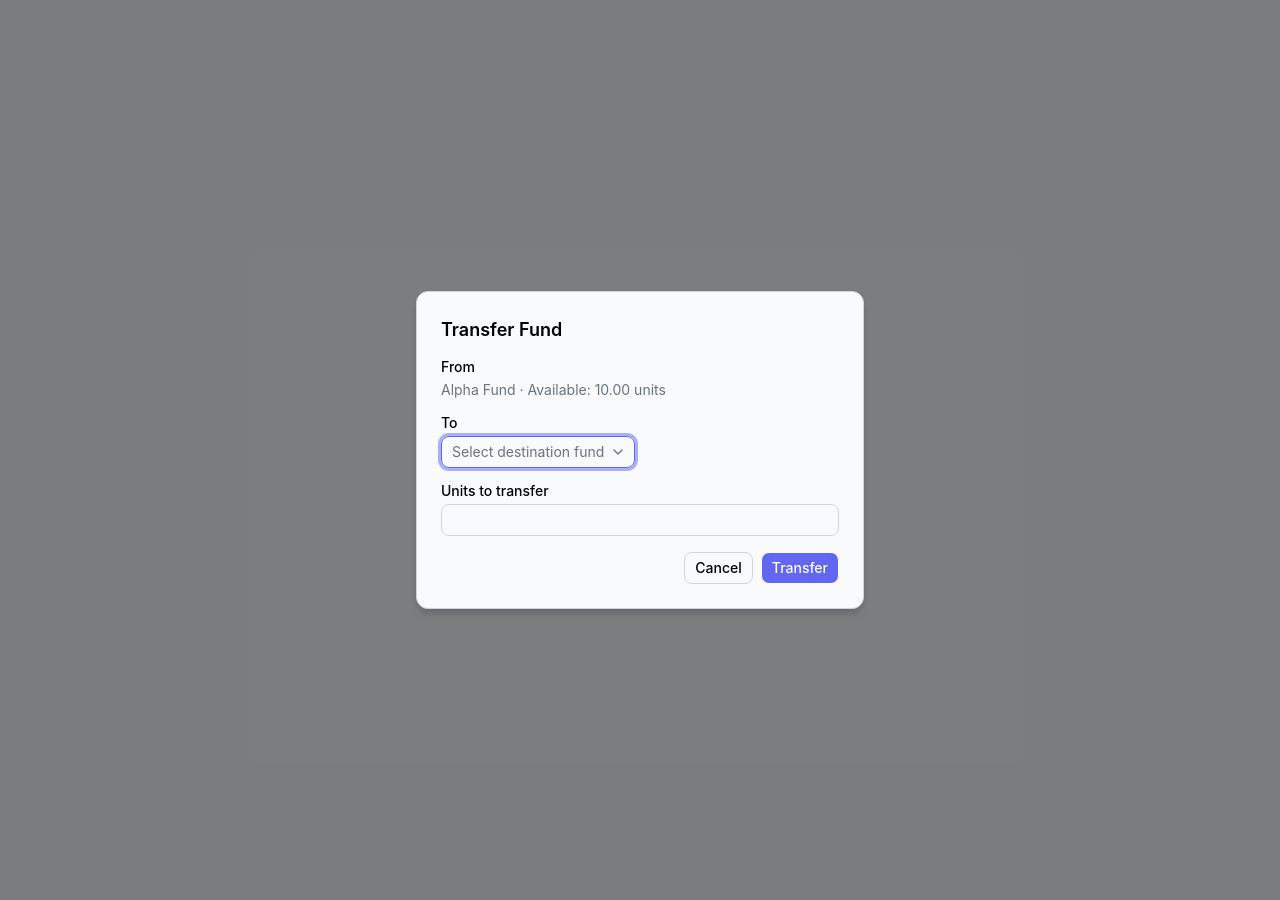
TransferFundDialog › validation › shows error when quantity is zero on submit
Step 1. Click the button "Transfer" → (800, 568), box [761,552,839,584]
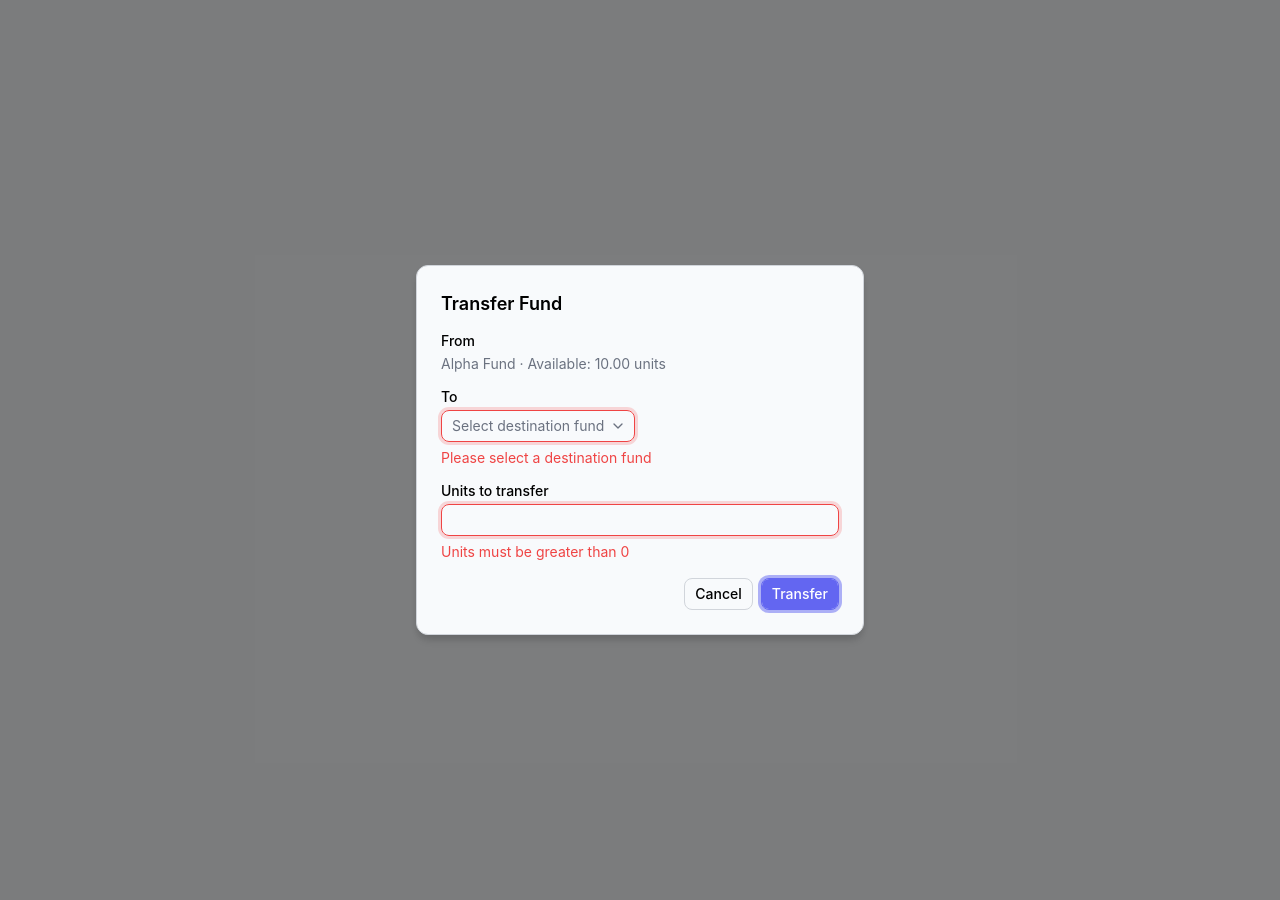
Expected: the text "Units must be greater than 0" is shown, [441,543,629,560]
